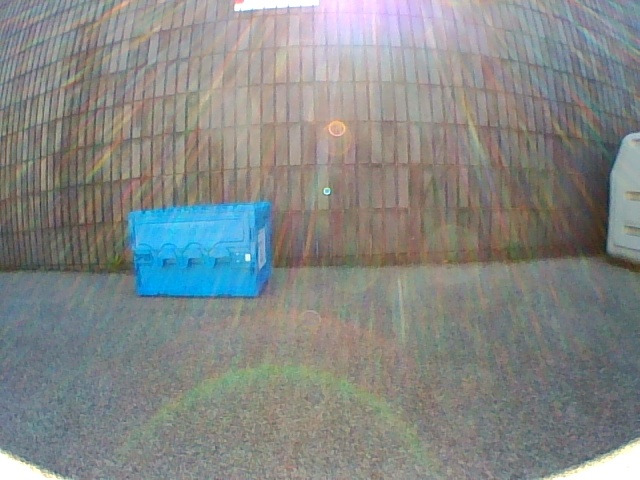blue_box: (129, 203, 270, 297)
tag: (258, 230, 266, 267)
